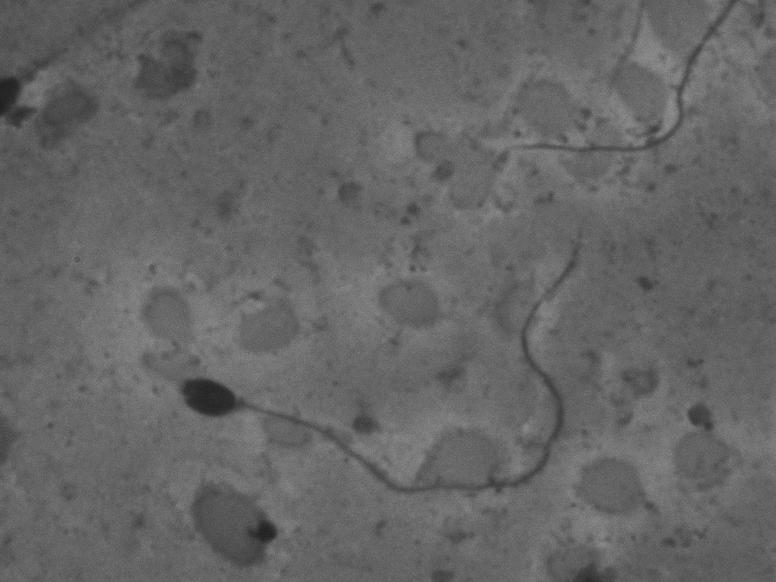Abnormal: (153, 219, 618, 505)
